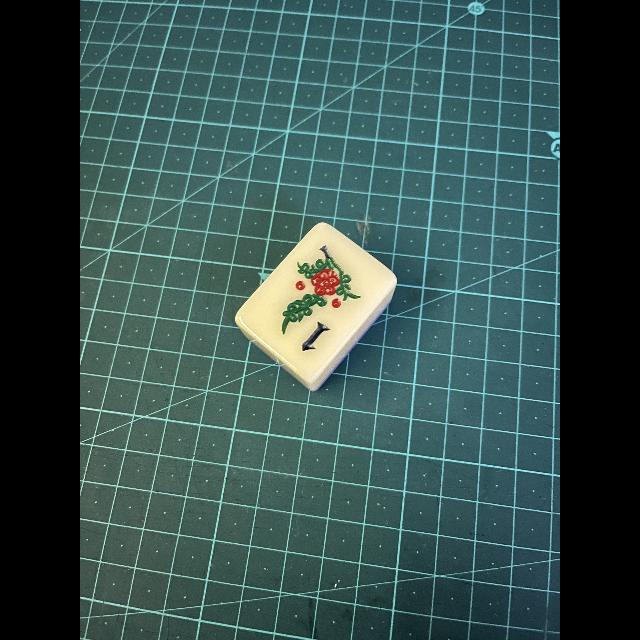f1-s: (258, 240, 370, 364)
